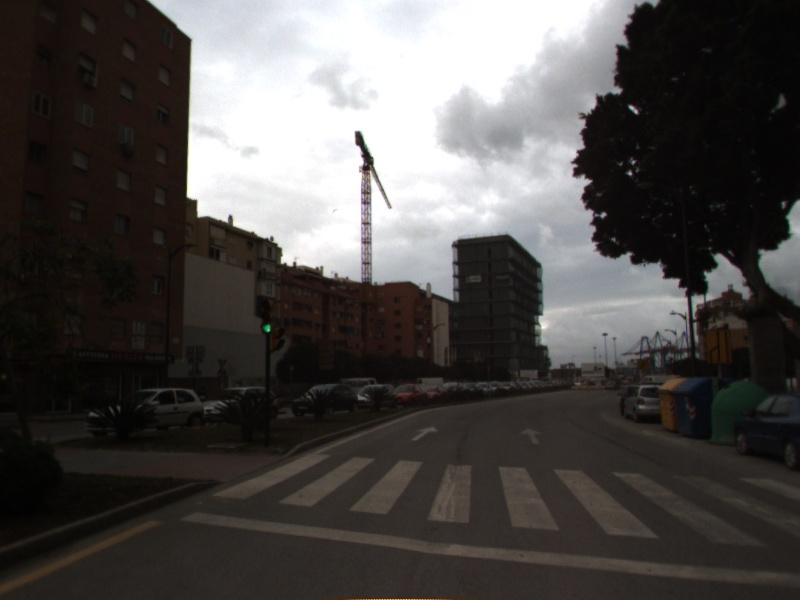STRAIGHT: (409, 424, 441, 443), (518, 426, 546, 446)
